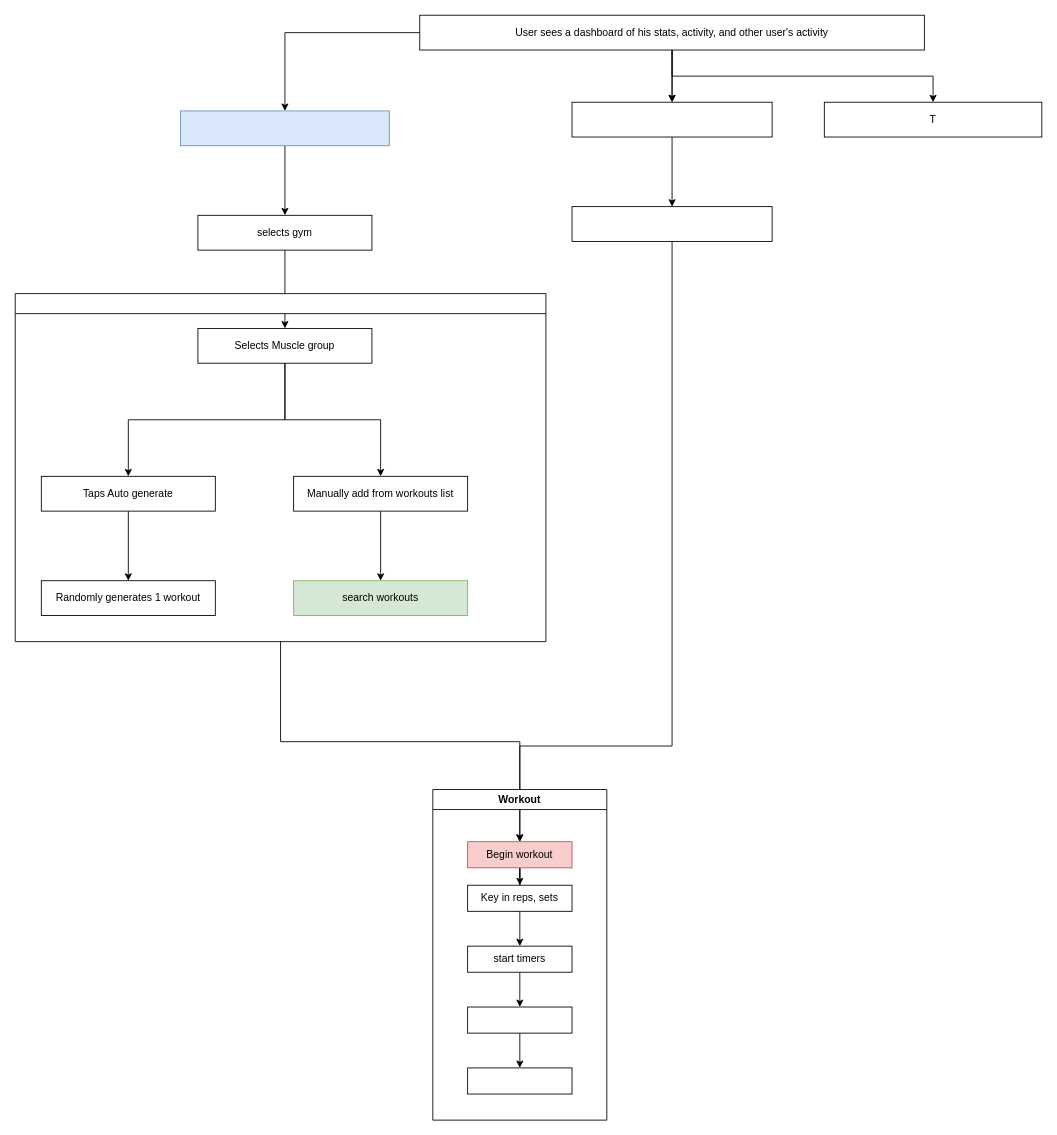
This 1057x1135 diagram has some shape labels left out. The centre of each missing label's shape, as x and y in pixels:
Change workouts: the point at 519,1080
Key in notes: the point at 519,1019
New workout: the point at 280,467
Taps on his planned workout: the point at 671,119
Taps on new workout: the point at 284,128
Workour overview: the point at 671,223
